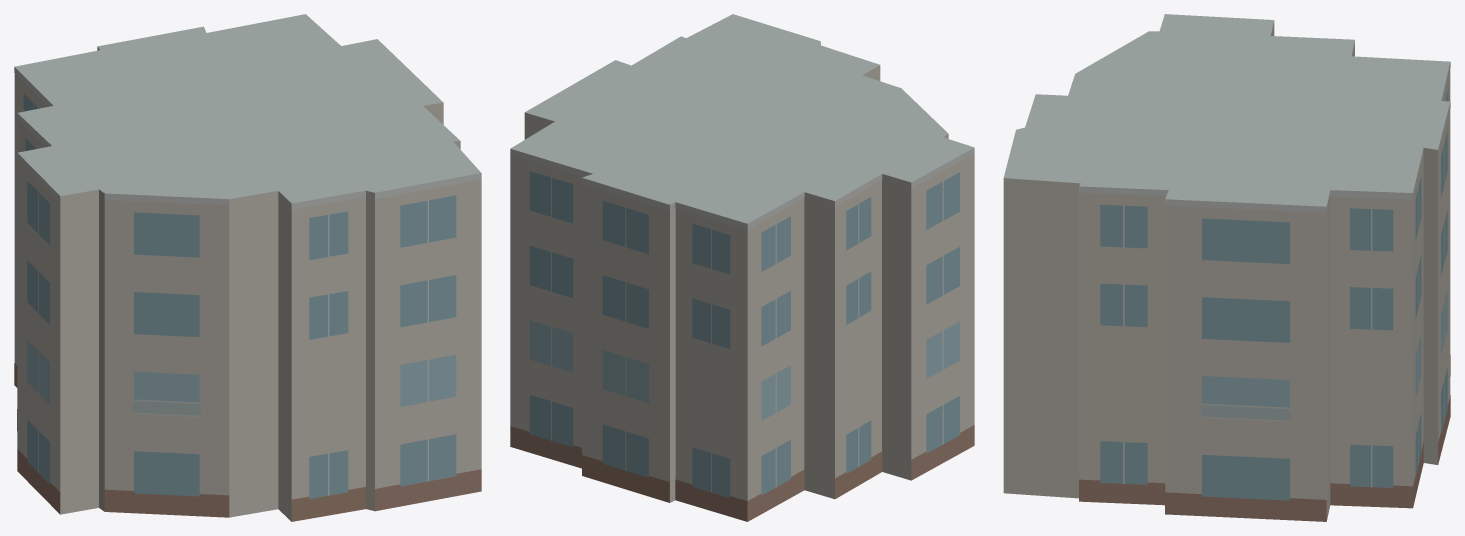
File: survey-upis-32674108.glb
3 renders of one model, left to right at view 1: azimuth 30°, elevation 25°; view 2: azimuth 150°, elevation 25°; view 3: azimuth 270°, elevation 25°, orthographic. The views are drawn at different scales.
Visible parts, largest first — view 1: survey-upis-32674108.tmp; view 2: survey-upis-32674108.tmp; view 3: survey-upis-32674108.tmp.
Boxes of the visible parts, x1=… form: survey-upis-32674108.tmp: x1=14, y1=14, x2=481, y2=521; survey-upis-32674108.tmp: x1=510, y1=14, x2=974, y2=521; survey-upis-32674108.tmp: x1=1003, y1=14, x2=1450, y2=521.
Size of the model in its own units: 16.01 by 12.2 by 15.69.
